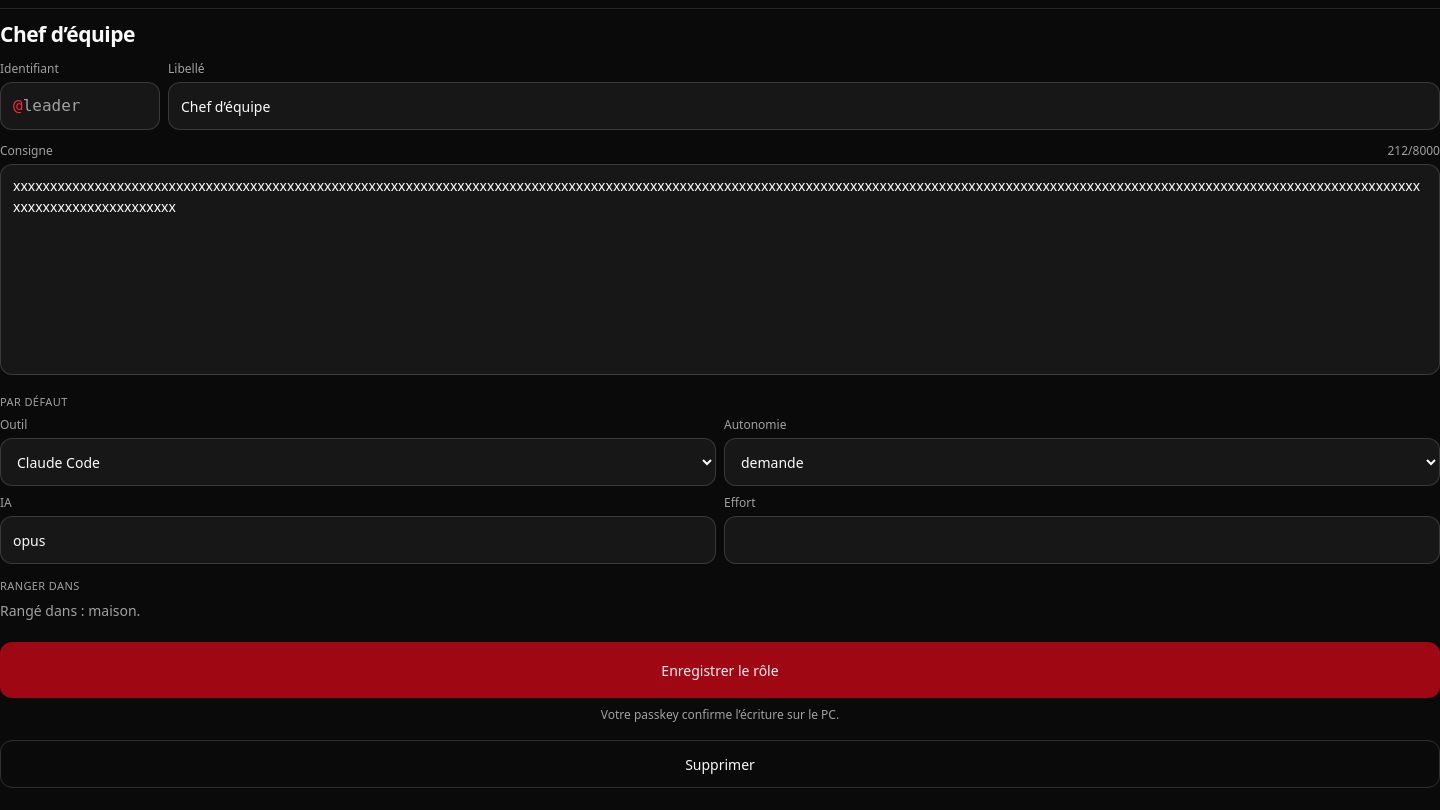
the role editor › a refused delete stays on the sheet and says why
The image size is (1440, 810).
(page scrolled)
Click the button "Supprimer".
click(720, 764)  # box [0, 740, 1439, 788]
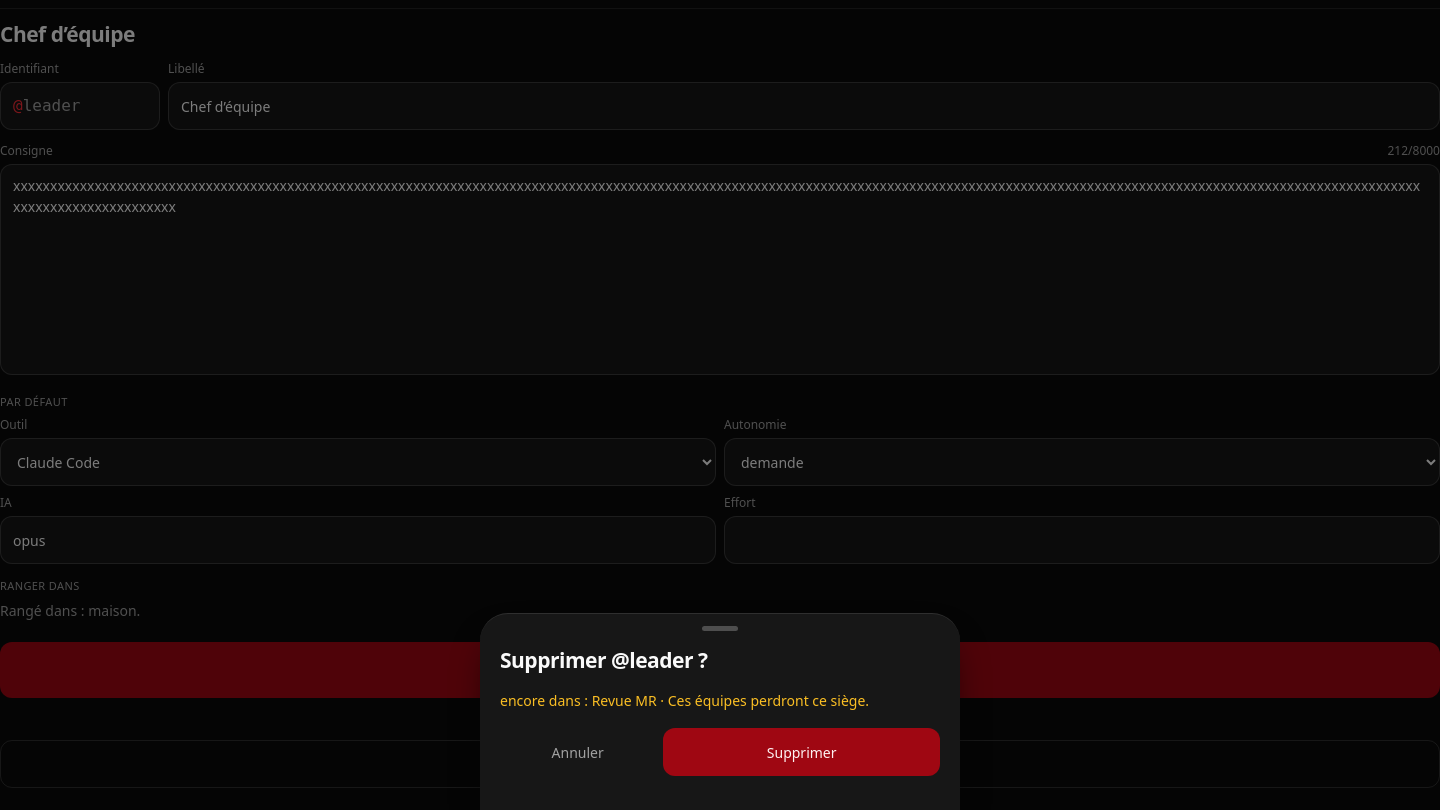
Click the button "Supprimer".
click(802, 752)  # box [663, 728, 940, 776]
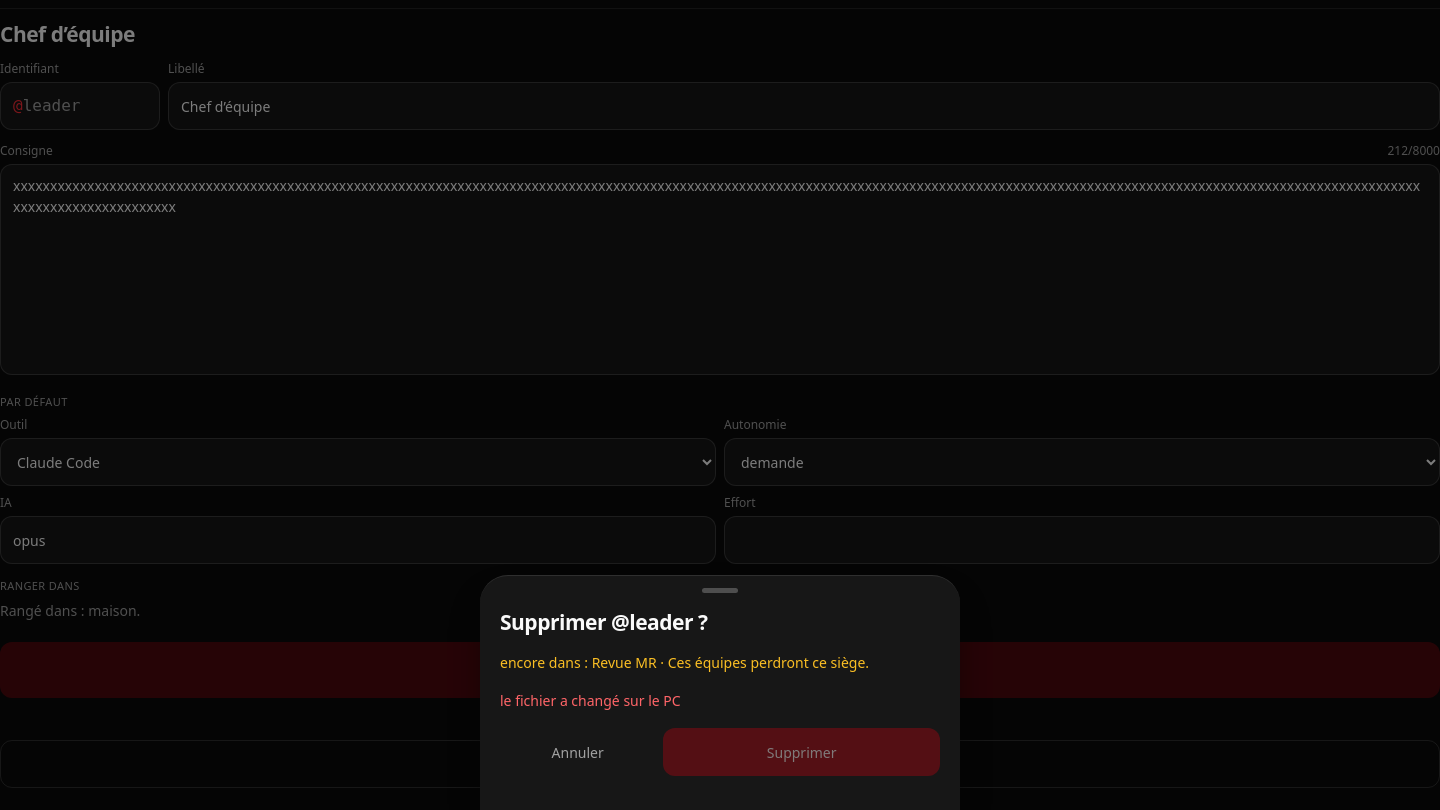
Check: the message reads "le fichier a changé sur le PC", box [500, 691, 681, 710]
